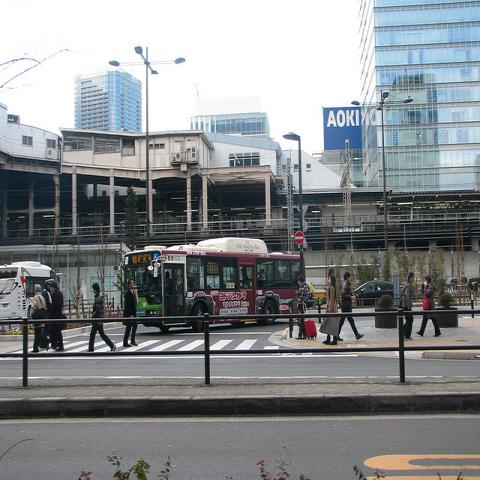bus: (164, 245, 300, 316), (114, 245, 176, 332), (0, 261, 53, 320)
car: (306, 280, 393, 300), (306, 282, 326, 306)
